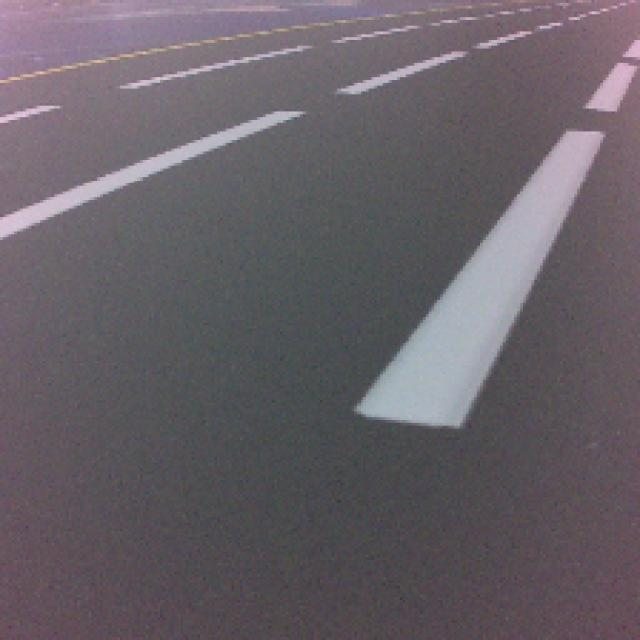Guard rail: (361, 132, 605, 432)
